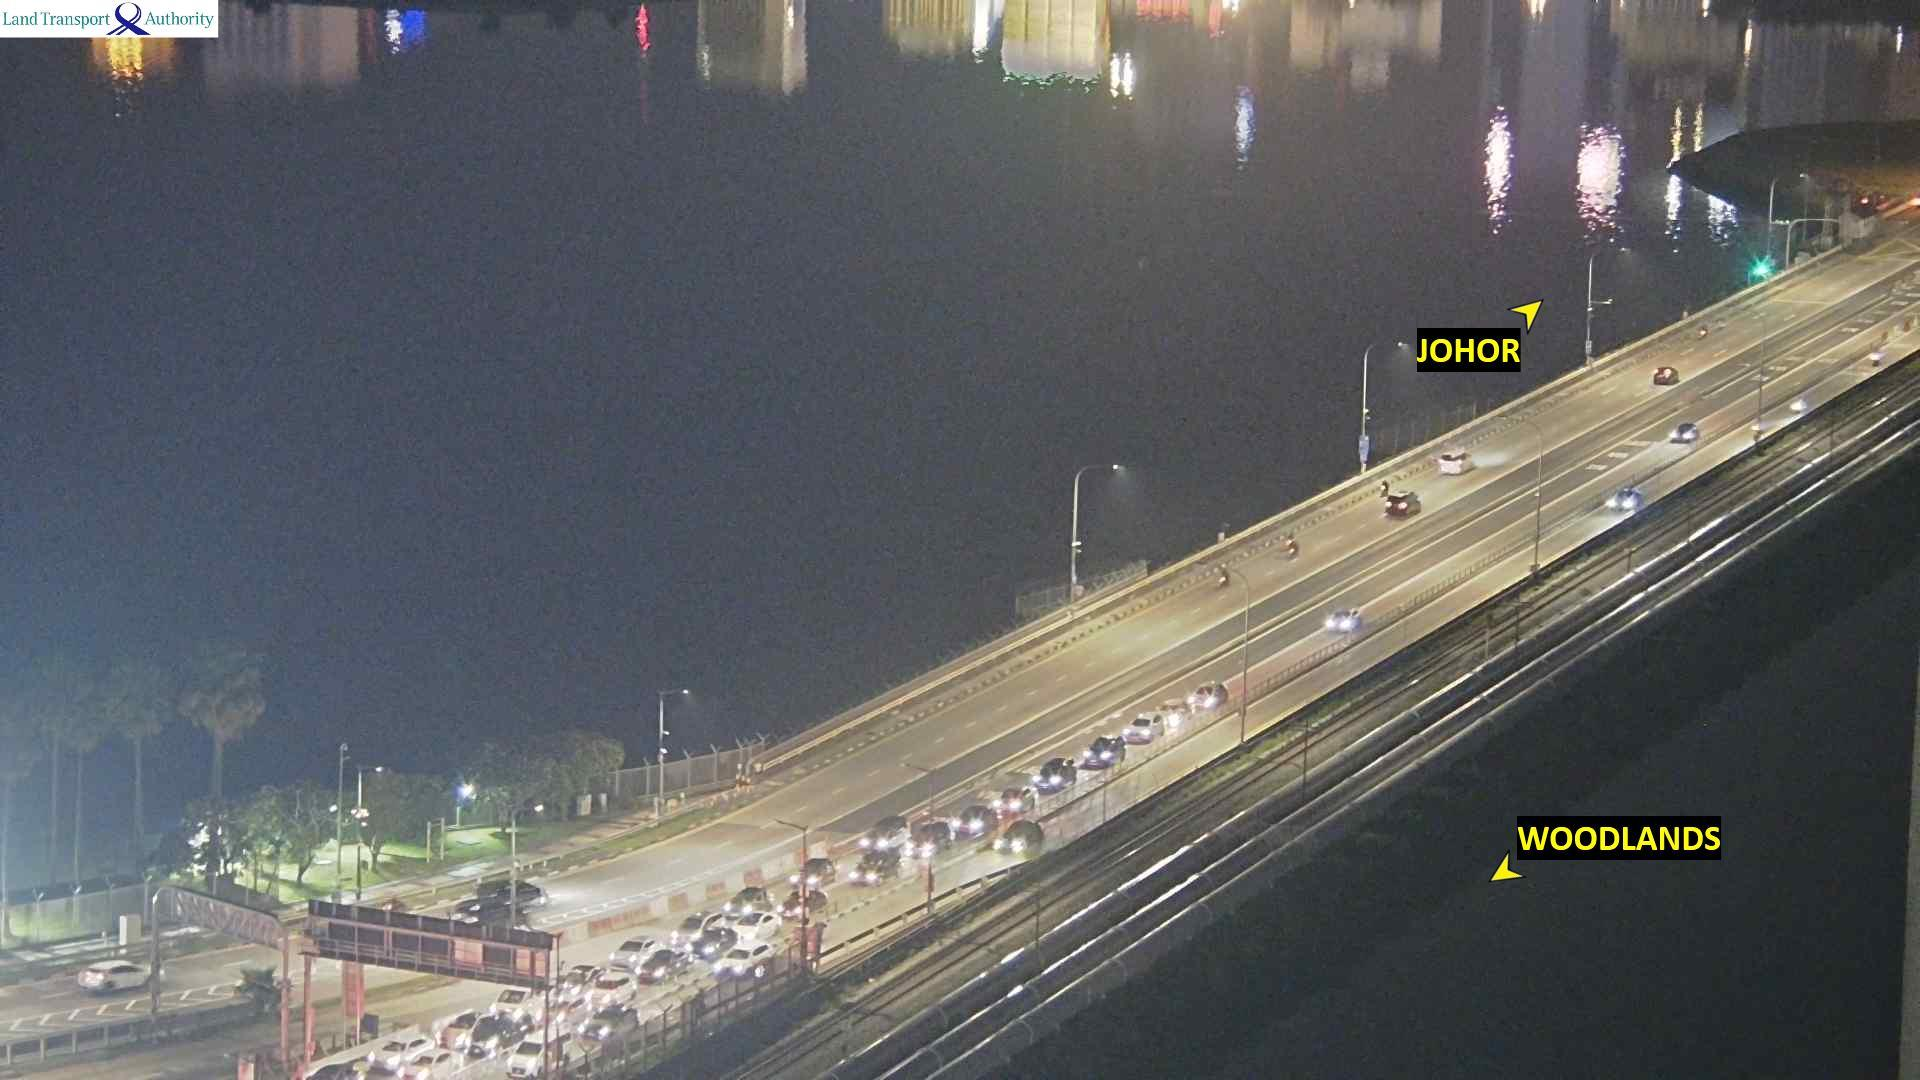vehicle-causeway-johor: (78, 960, 156, 993), (475, 881, 549, 905), (450, 902, 527, 924), (1385, 491, 1422, 516), (1441, 452, 1478, 475), (1655, 364, 1679, 385), (1226, 568, 1244, 592), (384, 895, 405, 907), (1288, 535, 1299, 555), (1381, 480, 1390, 496), (1701, 326, 1708, 335)
vehicle-causeway-singapore: (440, 1011, 524, 1051), (505, 1042, 578, 1077), (375, 1039, 442, 1075), (574, 1006, 638, 1038), (608, 939, 675, 969), (715, 944, 774, 976), (637, 953, 702, 982), (844, 856, 902, 887), (997, 819, 1043, 853), (861, 819, 907, 851), (671, 911, 724, 938), (1033, 762, 1075, 793), (910, 823, 948, 856), (1124, 712, 1163, 744), (1080, 740, 1121, 770), (584, 967, 640, 988), (727, 889, 774, 913), (1191, 679, 1228, 709), (994, 786, 1036, 812), (955, 807, 993, 835), (794, 862, 839, 885), (1325, 609, 1361, 634), (1156, 699, 1188, 723), (1610, 488, 1639, 508), (1673, 422, 1696, 442), (1792, 397, 1805, 414), (1869, 349, 1880, 365)
